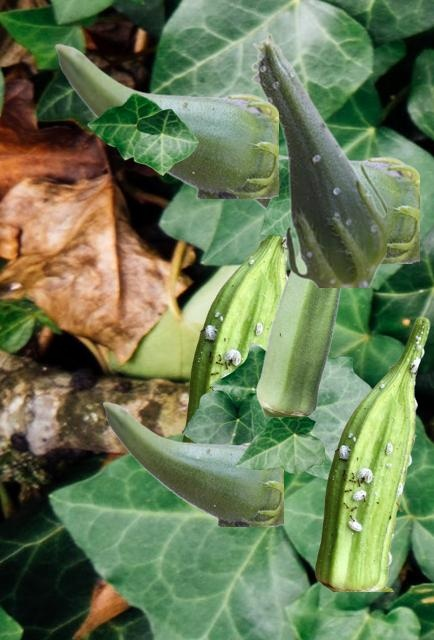okra: (54, 43, 277, 197), (250, 32, 385, 286), (315, 317, 429, 590), (102, 401, 282, 525), (181, 236, 287, 441), (251, 153, 418, 262), (256, 253, 341, 415)
